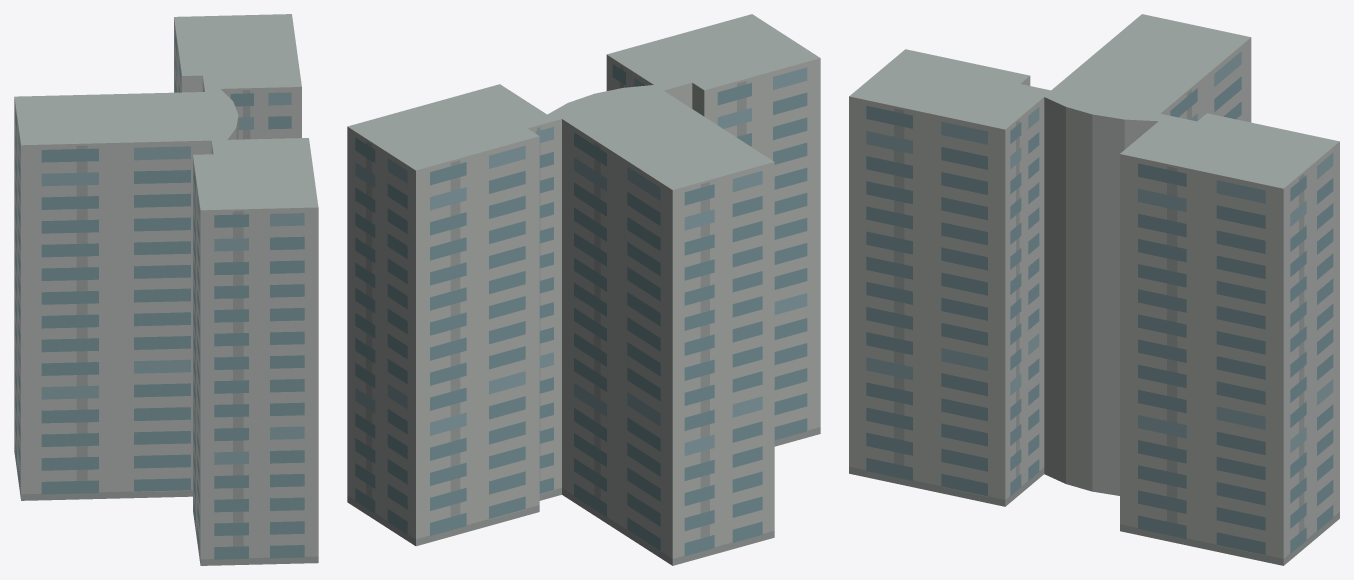
File: residential-8bb16caf-719c-427e-b001-e1a0aa3a3136.glb
The picture shows the model from 3 angles, left to right: view 1: azimuth 30°, elevation 25°; view 2: azimuth 150°, elevation 25°; view 3: azimuth 270°, elevation 25°; orthographic projection. The views are drawn at different scales.
Visible parts, largest first — view 1: residential-8bb16caf-719c-427e-b001-e1a0aa3a3136.tmp; view 2: residential-8bb16caf-719c-427e-b001-e1a0aa3a3136.tmp; view 3: residential-8bb16caf-719c-427e-b001-e1a0aa3a3136.tmp.
Part boxes in pixels (<box>): residential-8bb16caf-719c-427e-b001-e1a0aa3a3136.tmp: <box>14,14,318,565</box>; residential-8bb16caf-719c-427e-b001-e1a0aa3a3136.tmp: <box>347,14,820,565</box>; residential-8bb16caf-719c-427e-b001-e1a0aa3a3136.tmp: <box>849,14,1339,565</box>.
Bounding box in the file's own units: 42.72 × 43 × 50.72.
